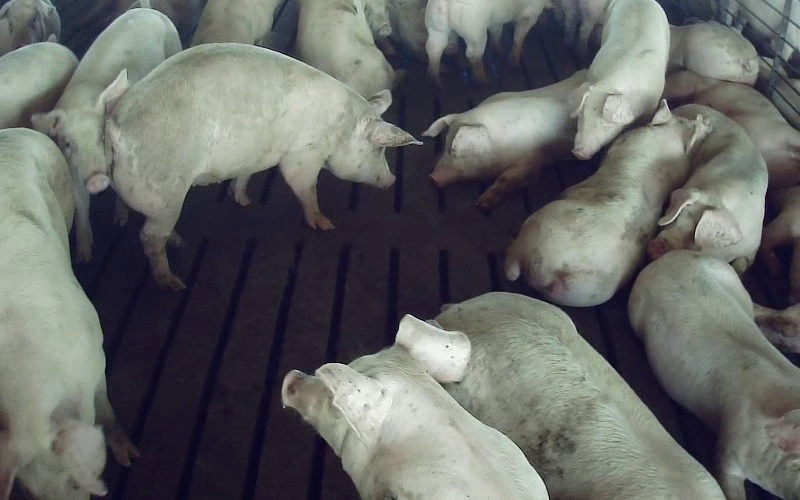pig: (105, 43, 417, 289), (437, 292, 724, 499), (284, 315, 547, 499), (628, 250, 799, 499), (507, 104, 710, 306), (32, 8, 181, 260), (423, 70, 585, 208), (650, 104, 767, 271), (664, 70, 799, 187), (296, 0, 394, 98)
